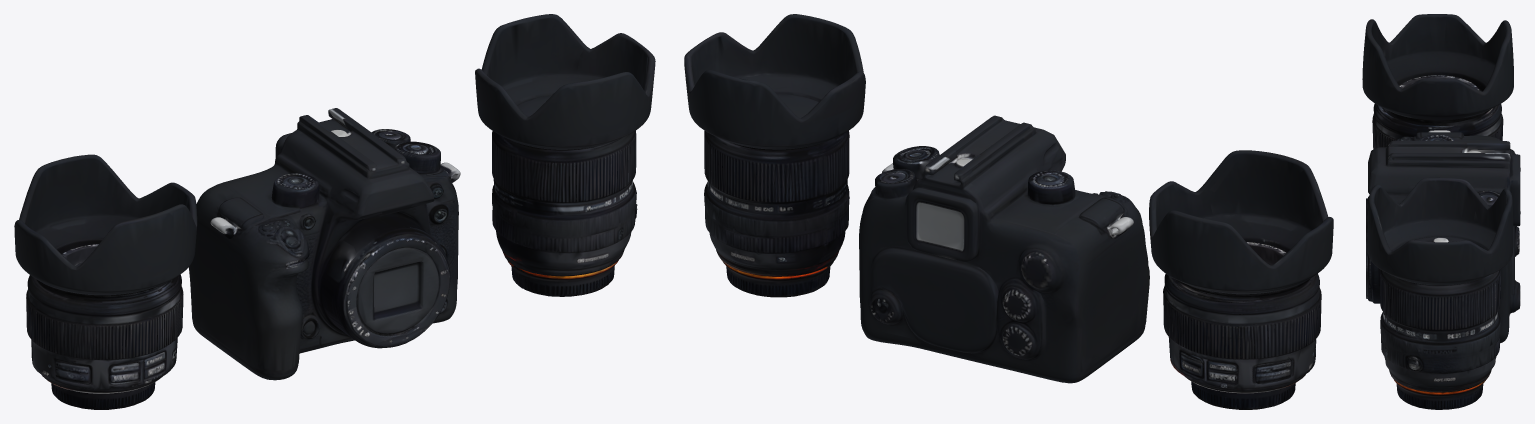
3 views of the same model, side by side, from view 1: azimuth 30°, elevation 25°; view 2: azimuth 150°, elevation 25°; view 3: azimuth 270°, elevation 25° (orthographic). The views are drawn at different scales.
Parts seen in each view (by area): view 1: node_0; view 2: node_0; view 3: node_0.
Boxes of the visible parts, <box> form: node_0: <box>14,14,655,409</box>; node_0: <box>684,14,1333,409</box>; node_0: <box>1362,14,1520,409</box>.
Bounding box in the file's own units: 1.15 × 0.4113 × 0.2964.
Materials: 1 (1 with a texture image).
